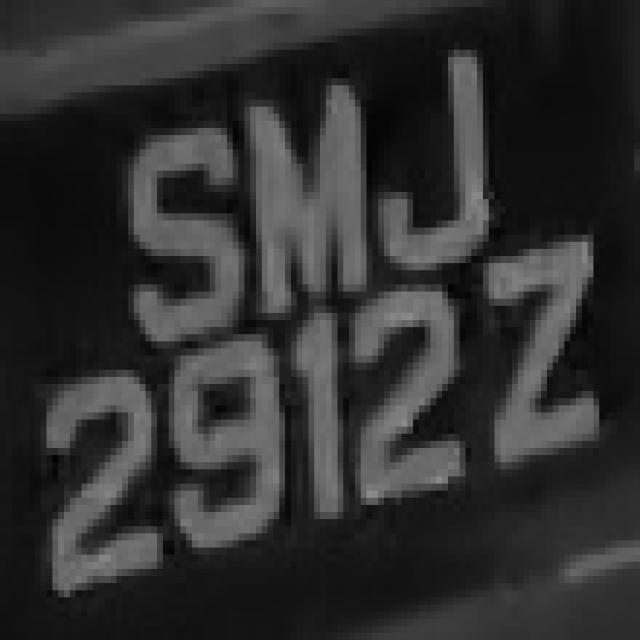1: (285, 298, 349, 562)
2: (320, 270, 477, 526), (23, 348, 163, 598)
9: (151, 341, 285, 576)
J: (372, 28, 512, 270)
M: (227, 71, 384, 320)
S: (110, 85, 227, 370)
Z: (466, 206, 605, 484)
